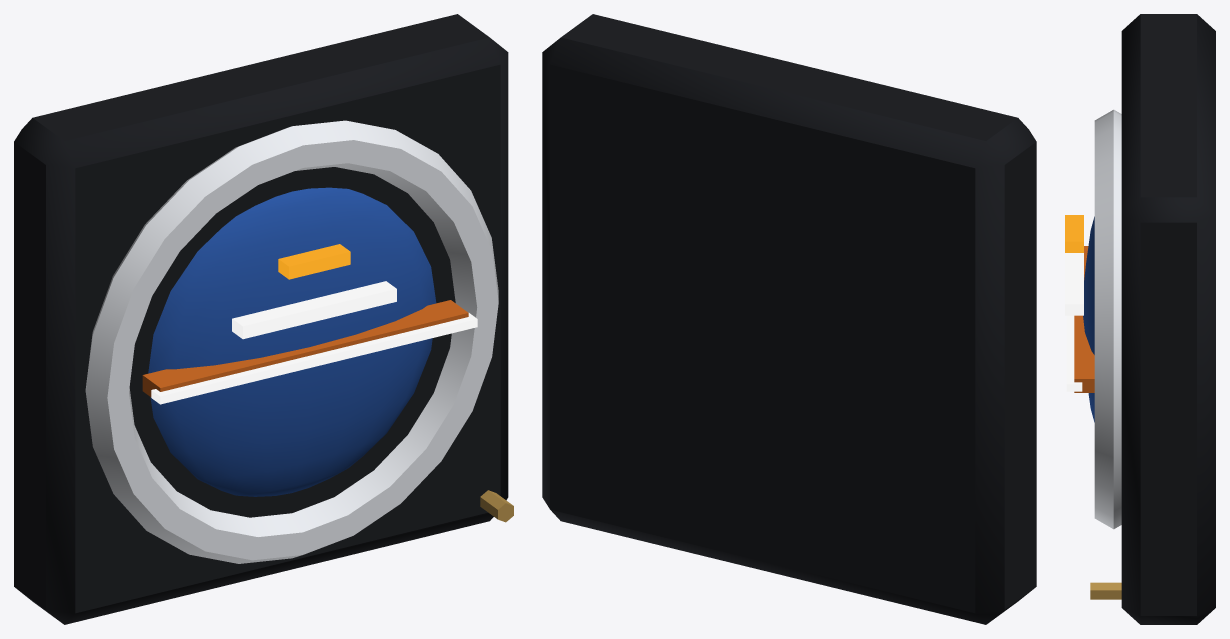
The model's file is instrument_attitude_indicator.glb.
3 renders of one model, left to right at view 1: azimuth 30°, elevation 25°; view 2: azimuth 150°, elevation 25°; view 3: azimuth 270°, elevation 25°, orthographic. The views are drawn at different scales.
Visible parts, largest first — view 1: instrument_attitude_indicator; view 2: instrument_attitude_indicator; view 3: instrument_attitude_indicator.
Boxes of the visible parts, box(x1,y1,x2,y2) form: instrument_attitude_indicator: box(14, 14, 513, 624); instrument_attitude_indicator: box(542, 14, 1036, 624); instrument_attitude_indicator: box(1065, 14, 1215, 624).
Bounding box in the file's own units: 0.3 × 0.3 × 0.096.
